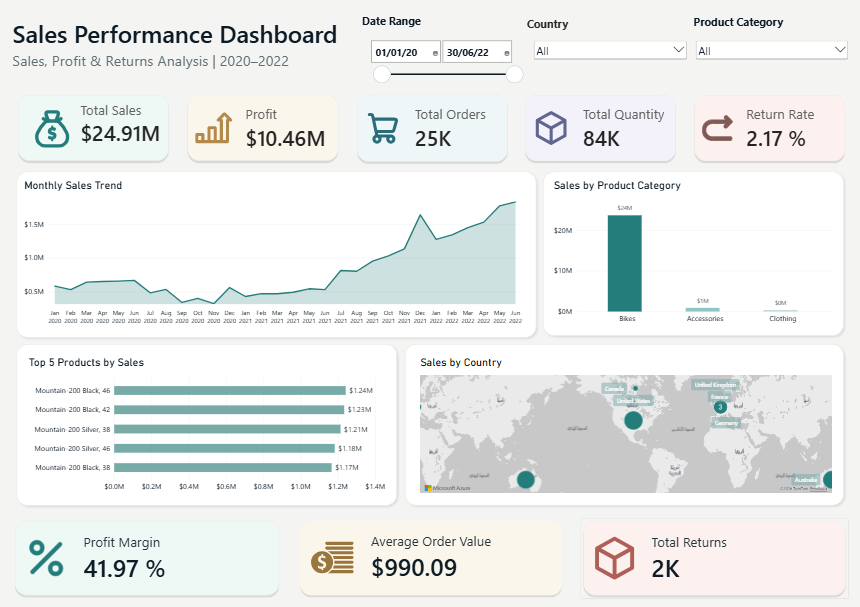

The dashboard page shown, as its layout file describes it:
{"tool":"powerbi","page":{"name":"Page 1","canvas":[1920,1360],"ordinal":0},"visuals":[{"type":"textbox","title":"Sales Performance Dashboard","box":[30,42.5,745,172.5],"z":0,"group":"g10"},{"type":"group","id":"g1","title":"Group 1","box":[807.1,32.5,1085.7,174.3],"z":1000,"group":"g10"},{"type":"cardVisual","fields":{"Data":["Sales.Total Sales"]},"box":[40,191.9,346.3,157.9],"z":1000,"group":"g2"},{"type":"shape","box":[40,358.6,1018.4,384.2],"z":1000,"group":"g6"},{"type":"clusteredBarChart","title":"Top 5 Products by Sales","fields":{"Category":["Product Lookup.ProductName"],"Y":["Sales.Total Sales"]},"box":[90,800,670,230],"z":1000},{"type":"group","id":"g2","title":"Group 3","box":[40,191.9,1850,161.7],"z":2000,"group":"g10"},{"type":"lineChart","title":"Monthly Sales Trend","fields":{"Category":["Calendar Lookup.Date.Variation.Date Hierarchy.Year","Calendar Lookup.Date.Variation.Date Hierarchy.Month"],"Y":["Sales.Total Sales"]},"box":[60.8,374.9,980.1,350.8],"z":2000,"group":"g6"},{"type":"cardVisual","fields":{"Data":["Sales.Profit"]},"box":[415.9,191.9,346.3,157.6],"z":3000,"group":"g2"},{"type":"group","id":"g3","title":"Group 7","box":[40,358.6,1850,384.2],"z":3000,"group":"g10"},{"type":"cardVisual","fields":{"Data":["Sales.Profit Margin %"]},"box":[40,1136.9,596.2,176.7],"z":3000,"group":"g5"},{"type":"cardVisual","fields":{"Data":["Sales.Total Orders"]},"box":[791.9,191.9,346.3,159.1],"z":4000,"group":"g2"},{"type":"group","id":"g4","title":"Group 8","box":[40,743.6,1849.2,376.7],"z":4000,"group":"g10"},{"type":"cardVisual","fields":{"Data":["Sales.Total Quantity"]},"box":[1167.8,191.9,346.3,158.6],"z":5000,"group":"g2"},{"type":"shape","box":[901.8,743.6,987.4,376.7],"z":5000,"group":"g9"},{"type":"group","id":"g5","title":"Group 9","box":[40,1136.9,1850,176.7],"z":5000,"group":"g10"},{"type":"cardVisual","fields":{"Data":["Sales.Average Order Value"]},"box":[671.3,1136.9,591.8,176.7],"z":5000,"group":"g5"},{"type":"slicer","fields":{"Values":["Calendar Lookup.Date"]},"box":[820.3,89,348.4,120.3],"z":6000,"group":"g1"},{"type":"group","id":"g6","title":"Group 2","box":[40,358.6,1018.4,384.2],"z":6000,"group":"g3"},{"type":"shape","box":[1059.1,359.3,830.9,383.5],"z":6000,"group":"g7"},{"type":"cardVisual","fields":{"Data":["Sales.Return Rate %"]},"box":[1543.7,191.9,346.3,158.6],"z":7000,"group":"g2"},{"type":"group","id":"g7","title":"Group 4","box":[1059.1,359.3,830.9,383.5],"z":7000,"group":"g3"},{"type":"clusteredColumnChart","title":"Sales by Product Category","fields":{"Category":["Product Categories Lookup.CategoryName"],"Y":["Sales.Total Sales"]},"box":[1079.3,375.6,792.6,350.8],"z":7000,"group":"g7"},{"type":"cardVisual","fields":{"Data":["Returns Data.Total Returns"]},"box":[1298.2,1136.9,591.8,176.7],"z":7000,"group":"g5"},{"type":"shape","box":[40,745.3,861.8,375],"z":7001,"group":"g8"},{"type":"slicer","fields":{"Values":["Territory Lookup.Country"]},"box":[1182.2,89,349.6,120.3],"z":8000,"group":"g1"},{"type":"group","id":"g8","title":"Group 5","box":[40,745.3,861.8,375],"z":8000,"group":"g11"},{"type":"slicer","fields":{"Values":["Product Categories Lookup.CategoryName"]},"box":[1545.3,89,348.4,120.3],"z":9000,"group":"g1"},{"type":"azureMap","title":"Sales by Country","fields":{"Category":["Territory Lookup.Country"],"Size":["Sales.Total Sales"]},"box":[927.2,763.7,941.5,336.5],"z":9000,"group":"g9"},{"type":"group","id":"g9","title":"Group 6","box":[901.8,743.6,987.4,376.7],"z":9001,"group":"g11"},{"type":"clusteredBarChart","title":"Top 5 Products by Sales","fields":{"Category":["Product Lookup.ProductName"],"Y":["Sales.Total Sales"]},"box":[59.8,766.5,822.8,336.5],"z":9001,"group":"g8"},{"type":"group","id":"g10","title":"Group 10","box":[30,32.5,1862.9,1281.1],"z":9002},{"type":"group","id":"g11","title":"Group 11","box":[40,743.6,1849.2,376.7],"z":9003,"group":"g4"},{"type":"textbox","box":[807.1,32.5,361.2,61.8],"z":10000,"group":"g1"},{"type":"textbox","box":[1174.8,40.2,361.2,54.1],"z":11000,"group":"g1"},{"type":"textbox","box":[1542.5,36.4,351.1,57.9],"z":12000,"group":"g1"}]}

Visuals, with their boxes in screenshot pixels (x1, y1, x2, y2), scaled from the page's 1920x1360 canvas onto the 860x607 screenshot:
"Sales Performance Dashboard" textbox: {"x1": 13, "y1": 19, "x2": 347, "y2": 96}
"Group 1" group: {"x1": 362, "y1": 15, "x2": 848, "y2": 92}
cardVisual - Sales.Total Sales: {"x1": 18, "y1": 86, "x2": 173, "y2": 156}
shape: {"x1": 18, "y1": 160, "x2": 474, "y2": 332}
"Top 5 Products by Sales" clusteredBarChart: {"x1": 40, "y1": 357, "x2": 340, "y2": 460}
"Group 3" group: {"x1": 18, "y1": 86, "x2": 847, "y2": 158}
"Monthly Sales Trend" lineChart: {"x1": 27, "y1": 167, "x2": 466, "y2": 324}
cardVisual - Sales.Profit: {"x1": 186, "y1": 86, "x2": 341, "y2": 156}
"Group 7" group: {"x1": 18, "y1": 160, "x2": 847, "y2": 332}
cardVisual - Sales.Profit Margin %: {"x1": 18, "y1": 507, "x2": 285, "y2": 586}
cardVisual - Sales.Total Orders: {"x1": 355, "y1": 86, "x2": 510, "y2": 157}
"Group 8" group: {"x1": 18, "y1": 332, "x2": 846, "y2": 500}
cardVisual - Sales.Total Quantity: {"x1": 523, "y1": 86, "x2": 678, "y2": 156}
shape: {"x1": 404, "y1": 332, "x2": 846, "y2": 500}
"Group 9" group: {"x1": 18, "y1": 507, "x2": 847, "y2": 586}
cardVisual - Sales.Average Order Value: {"x1": 301, "y1": 507, "x2": 566, "y2": 586}
slicer - Calendar Lookup.Date: {"x1": 367, "y1": 40, "x2": 523, "y2": 93}
"Group 2" group: {"x1": 18, "y1": 160, "x2": 474, "y2": 332}
shape: {"x1": 474, "y1": 160, "x2": 847, "y2": 332}
cardVisual - Sales.Return Rate %: {"x1": 691, "y1": 86, "x2": 847, "y2": 156}
"Group 4" group: {"x1": 474, "y1": 160, "x2": 847, "y2": 332}
"Sales by Product Category" clusteredColumnChart: {"x1": 483, "y1": 168, "x2": 838, "y2": 324}
cardVisual - Returns Data.Total Returns: {"x1": 581, "y1": 507, "x2": 847, "y2": 586}
shape: {"x1": 18, "y1": 333, "x2": 404, "y2": 500}
slicer - Territory Lookup.Country: {"x1": 530, "y1": 40, "x2": 686, "y2": 93}
"Group 5" group: {"x1": 18, "y1": 333, "x2": 404, "y2": 500}
slicer - Product Categories Lookup.CategoryName: {"x1": 692, "y1": 40, "x2": 848, "y2": 93}
"Sales by Country" azureMap: {"x1": 415, "y1": 341, "x2": 837, "y2": 491}
"Group 6" group: {"x1": 404, "y1": 332, "x2": 846, "y2": 500}
"Top 5 Products by Sales" clusteredBarChart: {"x1": 27, "y1": 342, "x2": 395, "y2": 492}
"Group 10" group: {"x1": 13, "y1": 15, "x2": 848, "y2": 586}
"Group 11" group: {"x1": 18, "y1": 332, "x2": 846, "y2": 500}
textbox: {"x1": 362, "y1": 15, "x2": 523, "y2": 42}
textbox: {"x1": 526, "y1": 18, "x2": 688, "y2": 42}
textbox: {"x1": 691, "y1": 16, "x2": 848, "y2": 42}
